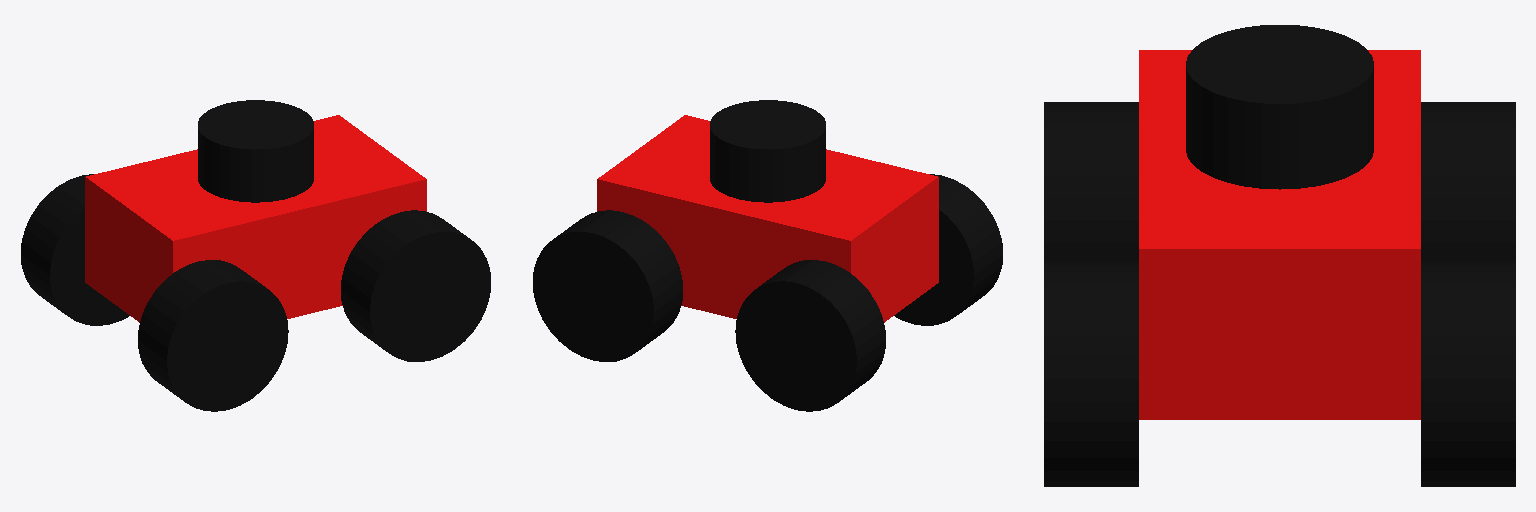
URDF robot description (omni_robot):
<?xml version="1.0" encoding="utf-8"?>
<!--Aqui comienza el robot-->
<robot name="omni_robot">

    <link name="base_footprint"/>

    <joint name="base_joint" type="fixed">
        <parent link="base_footprint"/>
        <child link="base_link"/>
        <origin xyz="0 0 0.095" rpy="0 0 0"/>
    </joint>

    <link name="base_link">
        <visual>
            <origin xyz="0.0 0.0 0.0" rpy="0 0 0" />
            <geometry>
                <box size="0.25 0.15 0.1" />
            </geometry>
            <material name="red">
                <color rgba="1 0.1 0.1 1.0" />
            </material>
        </visual>
        <collision>
            <origin xyz="0.0 0.0 -0.05" rpy="0 0 0" />
            <geometry>
                <box size="0.25 0.15 0.095" />
            </geometry>
        </collision>
        <inertial>
            <origin xyz="0 0 0" rpy="0 0 0"/>
            <mass value="1"/>
            <inertia ixx="1.0" ixy="0.0" ixz="0.0" 
                iyy="1.0" iyz="0.0" izz="1.0"/>
        </inertial>
    </link>

    <link name="wheel_left_front">
        <visual>
            <origin xyz="0.0 0.0 0.0" rpy="0 0 0" />
            <geometry>
                <cylinder length="0.05" radius="0.06"/>
            </geometry>
            <material name="grey">
                <color rgba="0.1 0.1 0.1 1.0" />
            </material>
        </visual>
        <collision>
            <origin xyz="0.0 0.0 0.0" rpy="0 0 0" />
            <geometry>
                <cylinder length="0.045" radius="0.06"/>
            </geometry>
        </collision>
        <inertial>
            <origin xyz="0 0 0" rpy="0 0 0"/>
            <mass value="1"/>
            <inertia ixx="1.0" ixy="0.0" ixz="0.0" 
                iyy="1.0" iyz="0.0" izz="1.0"/>
        </inertial>
    </link>

    <joint name="wheel_left_front_joint" type="continuous">
        <origin xyz="0.1 0.1 -0.035" rpy="1.5708 0  0" />
        <parent link="base_link" />
        <child link="wheel_left_front" />
        <axis xyz="0 0 1" />
    </joint>

    <link name="wheel_rigth_front">
        <visual>
            <origin xyz="0.0 0.0 0.0" rpy="0 0 0" />
            <geometry>
                <cylinder length="0.05" radius="0.06"/>
            </geometry>
            <material name="grey">
                <color rgba="0.1 0.1 0.1 1.0" />
            </material>
        </visual>
        <collision>
            <origin xyz="0.0 0.0 0.0" rpy="0 0 0" />
            <geometry>
                <cylinder length="0.045" radius="0.06"/>
            </geometry>
        </collision>
        <inertial>
            <origin xyz="0 0 0" rpy="0 0 0"/>
            <mass value="1"/>
            <inertia ixx="1.0" ixy="0.0" ixz="0.0" 
                iyy="1.0" iyz="0.0" izz="1.0"/>
        </inertial>
    </link>

    <joint name="wheel_rigth_front_joint" type="continuous">
        <origin xyz="0.1 -0.1 -0.035" rpy="1.5708 0  0" />
        <parent link="base_link" />
        <child link="wheel_rigth_front" />
        <axis xyz="0 0 1" />
    </joint>

    <link name="wheel_left_back">
        <visual>
            <origin xyz="0.0 0.0 0.0" rpy="0 0 0" />
            <geometry>
                <cylinder length="0.05" radius="0.06"/>
            </geometry>
            <material name="grey">
                <color rgba="0.1 0.1 0.1 1.0" />
            </material>
        </visual>
        <collision>
            <origin xyz="0.0 0.0 0.0" rpy="0 0 0" />
            <geometry>
                <cylinder length="0.045" radius="0.06"/>
            </geometry>
        </collision>
        <inertial>
            <origin xyz="0 0 0" rpy="0 0 0"/>
            <mass value="1"/>
            <inertia ixx="1.0" ixy="0.0" ixz="0.0" 
                iyy="1.0" iyz="0.0" izz="1.0"/>
        </inertial>
    </link>

    <joint name="wheel_left_back_joint" type="continuous">
        <origin xyz="-0.1 0.1 -0.035" rpy="1.5708 0  0" />
        <parent link="base_link" />
        <child link="wheel_left_back" />
        <axis xyz="0 0 1" />
    </joint>

    <link name="wheel_rigth_back">
        <visual>
            <origin xyz="0.0 0.0 0.0" rpy="0 0 0" />
            <geometry>
                <cylinder length="0.05" radius="0.06"/>
            </geometry>
            <material name="grey">
                <color rgba="0.1 0.1 0.1 1.0" />
            </material>
        </visual>
        <collision>
            <origin xyz="0.0 0.0 0.0" rpy="0 0 0" />
            <geometry>
                <cylinder length="0.045" radius="0.06"/>
            </geometry>
        </collision>
        <inertial>
            <origin xyz="0 0 0" rpy="0 0 0"/>
            <mass value="1"/>
            <inertia ixx="1.0" ixy="0.0" ixz="0.0" 
                iyy="1.0" iyz="0.0" izz="1.0"/>
        </inertial>
    </link>

    <joint name="wheel_rigth_back_joint" type="continuous">
        <origin xyz="-0.1 -0.1 -0.035" rpy="1.5708 0  0" />
        <parent link="base_link" />
        <child link="wheel_rigth_back" />
        <axis xyz="0 0 1" />
    </joint>


    <link name="lidar_link">
            <visual>
                <geometry>
                    <cylinder radius="0.05" length="0.05" />
                </geometry>
                <origin xyz="0 0 0" rpy="0 0 0" />
                <material name="grey" />
            </visual>
            <collision>
                <geometry>
                    <cylinder radius="0.1" length="0.05" />
                </geometry>
                    <origin xyz="0 0 0" rpy="0 0 0" />
            </collision>
            <inertial>
                <origin xyz="0 0 0" rpy="0 0 0" />
                <mass value="0.1" />
                <inertia ixx="0.1" ixy="0" ixz="0"
                        iyy="0.1" iyz="0"
                        izz="0.1" />
            </inertial> 
    </link>

    <link name="lidar_sensor" />

    <joint name="lidar_joint" type="fixed" >
        <parent link="base_link" />
        <child link="lidar_link" />
        <origin xyz="0 0 0.075" rpy="0 0 0" />
    </joint>

    <joint name="lidar_sensor_joint" type="fixed" >
        <parent link="lidar_link" />
        <child link="lidar_sensor" />
        <origin xyz="0 0 0" rpy="0 0 0" />
    </joint>


    <link name="camera_link">
    </link>

    <joint name="base_camera_joint" type="fixed">
        <parent link="base_link" />
        <child link="camera_link" />
        <origin xyz="0.125 0 0.03" rpy="0 0 0" />
    </joint>

    <link name="camera_optical_link" />

    <joint name="camera_optical_joint" type="fixed">
        <origin xyz="0 0 0" rpy="-1.57 0 -1.57"/>
        <parent link="camera_link"/>
        <child link="camera_optical_link"/>
    </joint>

</robot>

--- Render facts (derived) ---
Views: 3 orthographic renders of the robot side by side, from view 1: azimuth 30°, elevation 25°; view 2: azimuth 150°, elevation 25°; view 3: azimuth 270°, elevation 25°.
Model omni_robot with 10 links and 9 joints (4 continuous, 5 fixed), rooted at base_footprint, posed every joint at zero.
Links seen in each view (by area): view 1: base_link, wheel_rigth_back, wheel_rigth_front, lidar_link, wheel_left_back; view 2: base_link, wheel_left_back, wheel_left_front, lidar_link, wheel_rigth_back; view 3: base_link, lidar_link, wheel_left_front, wheel_rigth_front, wheel_left_back, wheel_rigth_back.
Link boxes in pixels (<box>): base_link: <box>85,115,426,322</box>; wheel_rigth_back: <box>138,260,288,411</box>; wheel_rigth_front: <box>341,210,490,361</box>; lidar_link: <box>198,100,313,202</box>; wheel_left_back: <box>21,174,129,325</box>; base_link: <box>597,115,938,322</box>; wheel_left_back: <box>735,260,885,411</box>; wheel_left_front: <box>533,210,682,361</box>; lidar_link: <box>710,100,825,202</box>; wheel_rigth_back: <box>894,174,1002,325</box>; base_link: <box>1139,50,1420,419</box>; lidar_link: <box>1186,25,1373,189</box>; wheel_left_front: <box>1421,262,1515,486</box>; wheel_rigth_front: <box>1044,262,1138,486</box>; wheel_left_back: <box>1421,102,1515,261</box>; wheel_rigth_back: <box>1044,102,1138,261</box>.
Size in the robot's own frame: 0.32 by 0.25 by 0.195 metres.
Geometry: primitives only (box / cylinder / sphere), no mesh files.